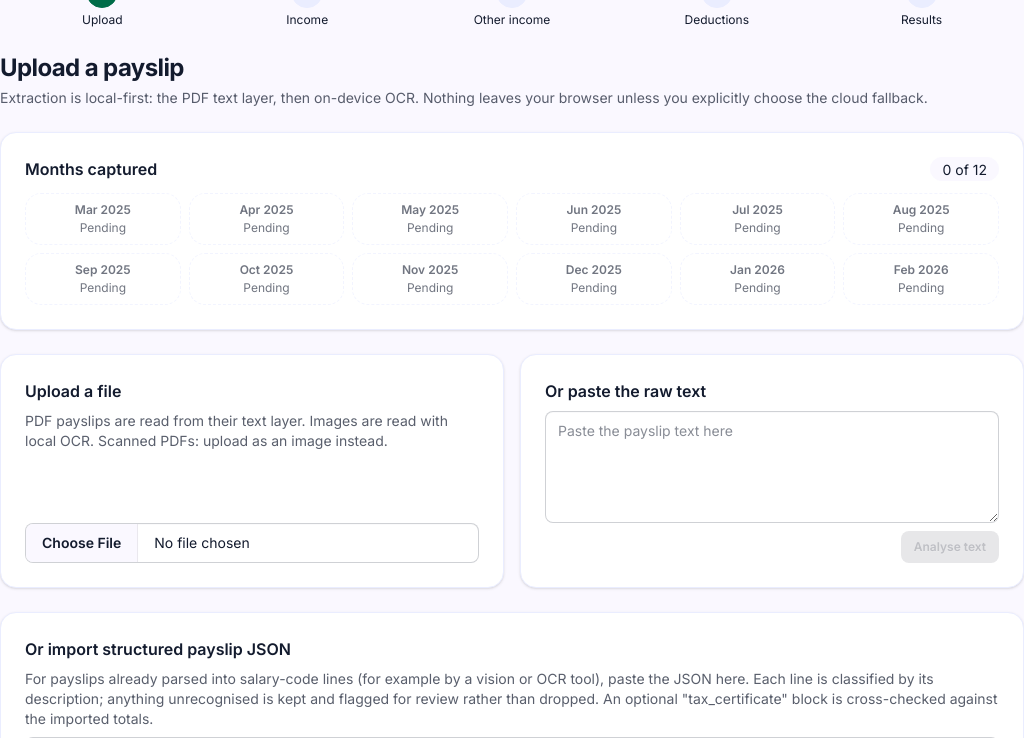
Test: UploadPage › analyses pasted text and shows suggestions with confidence badges
Click the text box named "Pasted payslip text".
click(772, 467)  # box [545, 411, 999, 523]
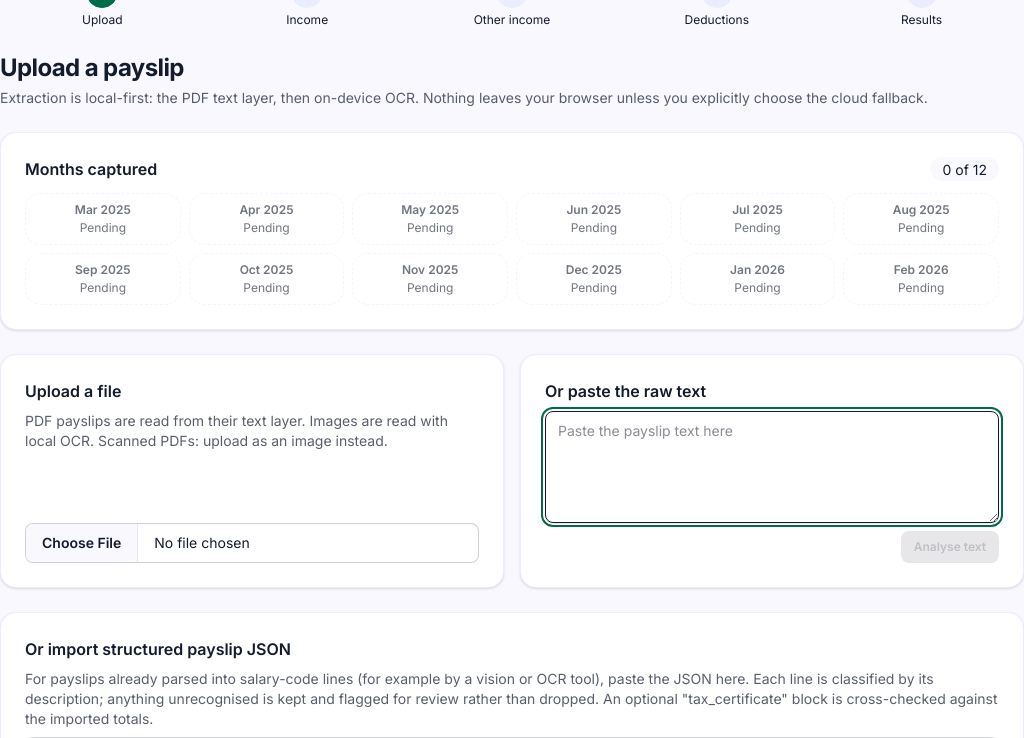
Type keys "Acme Widgets Pty Ltd Payslip for March 2025 Basic salary   30 000.00 PAYE           6 000.00"
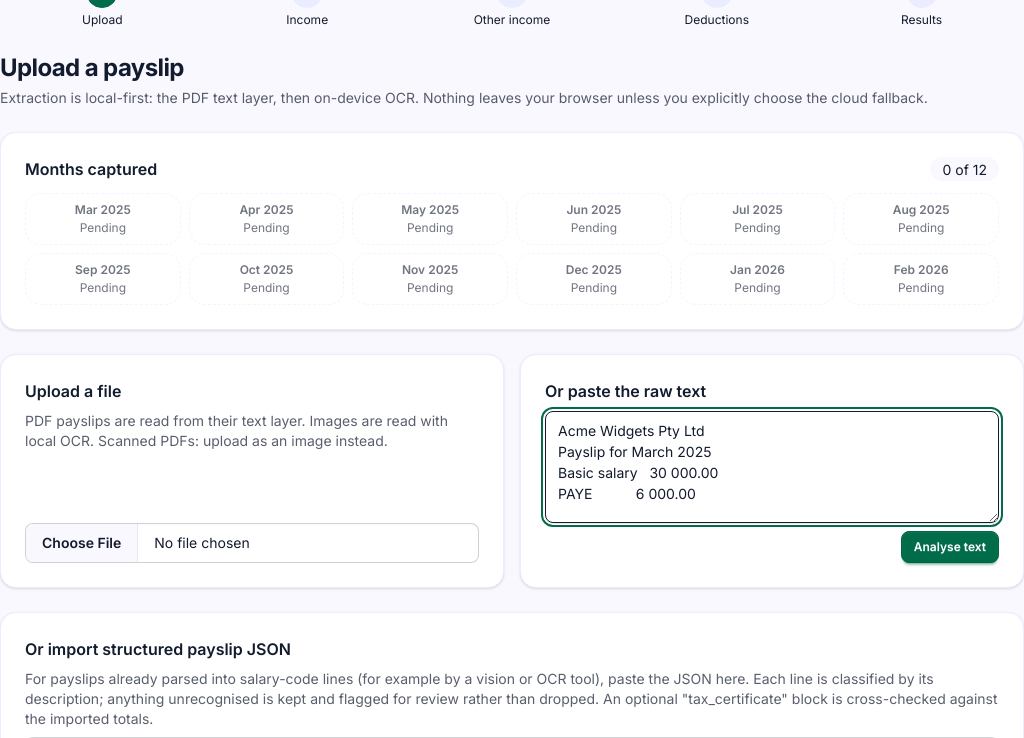
Click the button "Analyse text".
click(950, 547)  # box [901, 531, 999, 563]
(page scrolled)
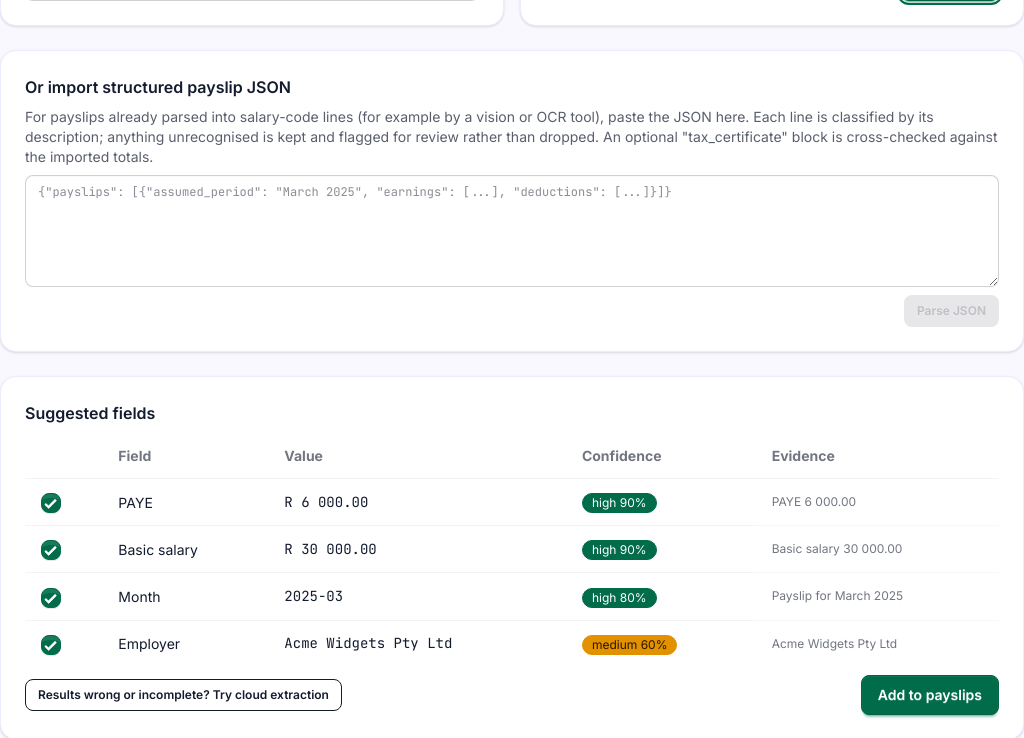
expect the text "Basic salary" is shown: met, box [102, 526, 268, 573]
expect the text "R 30 000.00" is shown: met, box [268, 526, 566, 573]
expect the text "R 6 000.00" is shown: met, box [268, 479, 566, 526]
